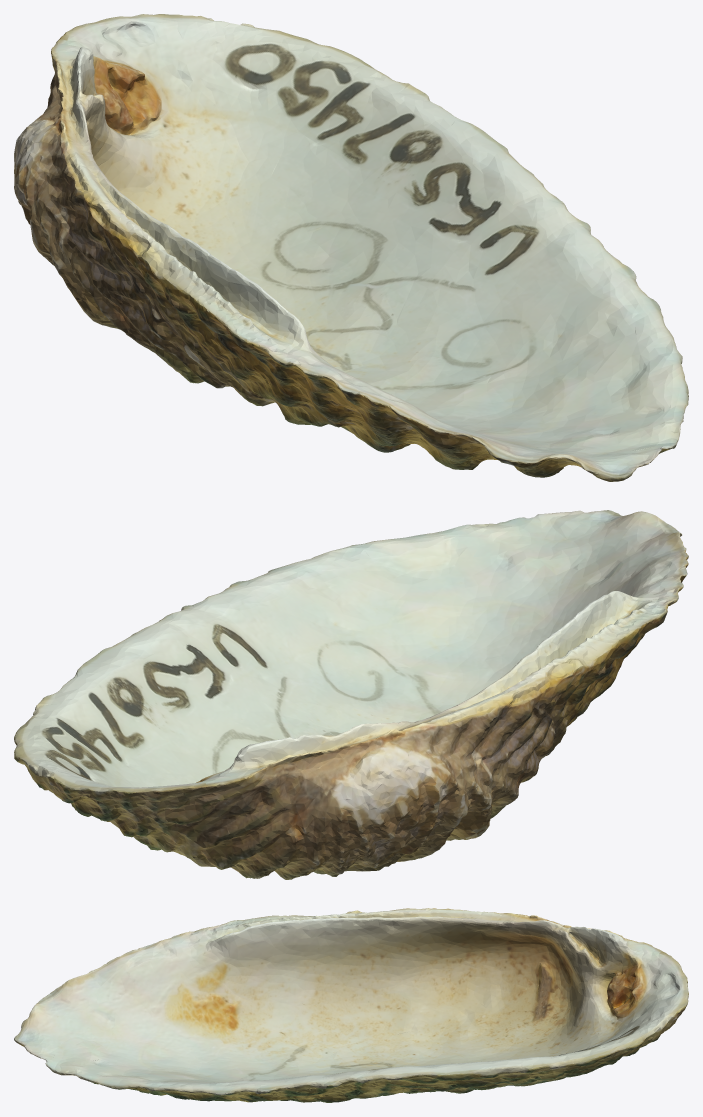
File: UF_IZ_507450_object_reduced.obj
3 views of the same model, one above another, from view 1: azimuth 30°, elevation 25°; view 2: azimuth 150°, elevation 25°; view 3: azimuth 270°, elevation 25° (orthographic). The views are drawn at different scales.
Parts seen in each view (by area): view 1: UF_IZ_507450_object_reduced; view 2: UF_IZ_507450_object_reduced; view 3: UF_IZ_507450_object_reduced.
Boxes of the visible parts, <box> form: UF_IZ_507450_object_reduced: <box>14,14,688,481</box>; UF_IZ_507450_object_reduced: <box>14,510,688,879</box>; UF_IZ_507450_object_reduced: <box>14,908,688,1102</box>.
Size of the model in its own units: 0.0146 by 0.00654 by 0.0301.
